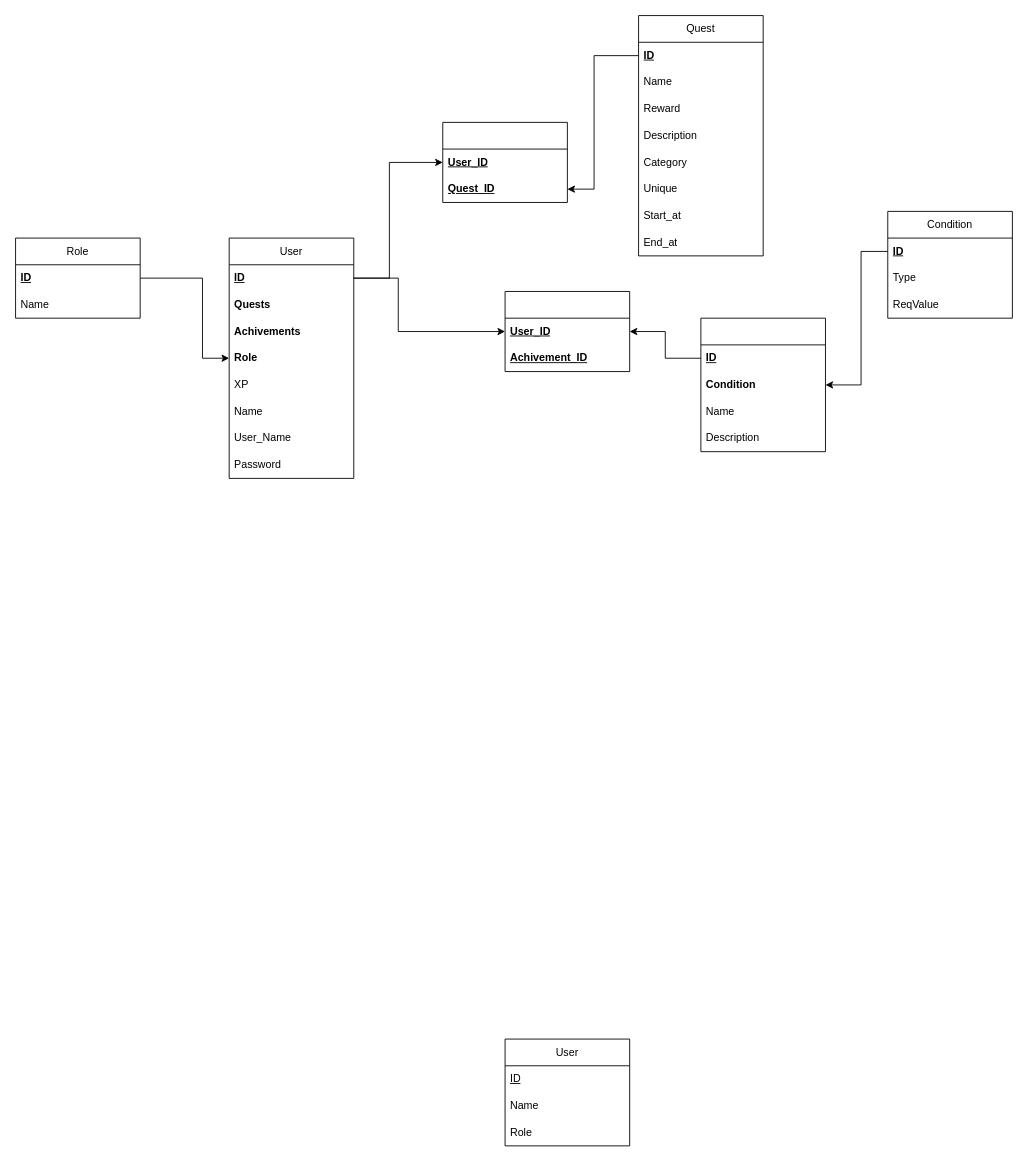
This 1028x1161 diagram has some shape labels left out. The box of each missing label's shape, as (x1, y1, x2, y2) in pixels:
Achivement: (700, 317, 825, 452)
User-Achivement: (504, 291, 630, 372)
User-Quest: (442, 121, 567, 202)
